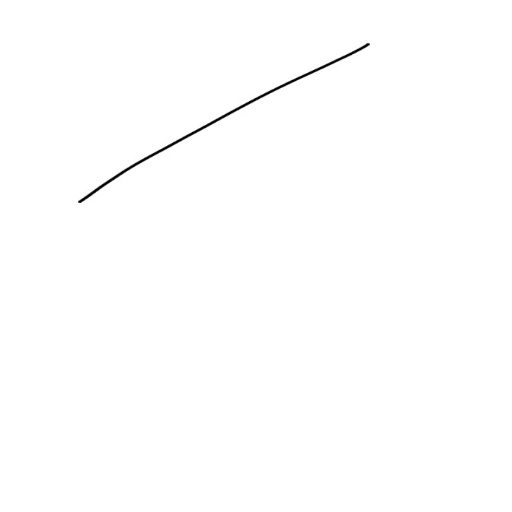line: (73, 40, 376, 209)
